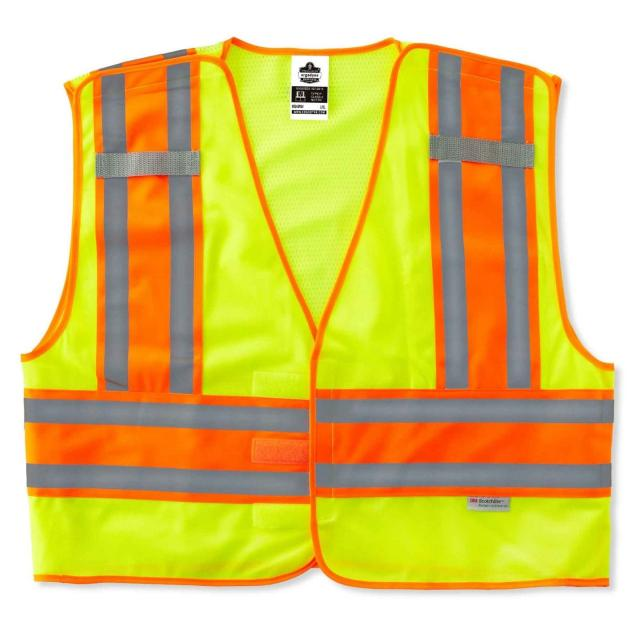Reflective-Jacket: (6, 33, 640, 614)
